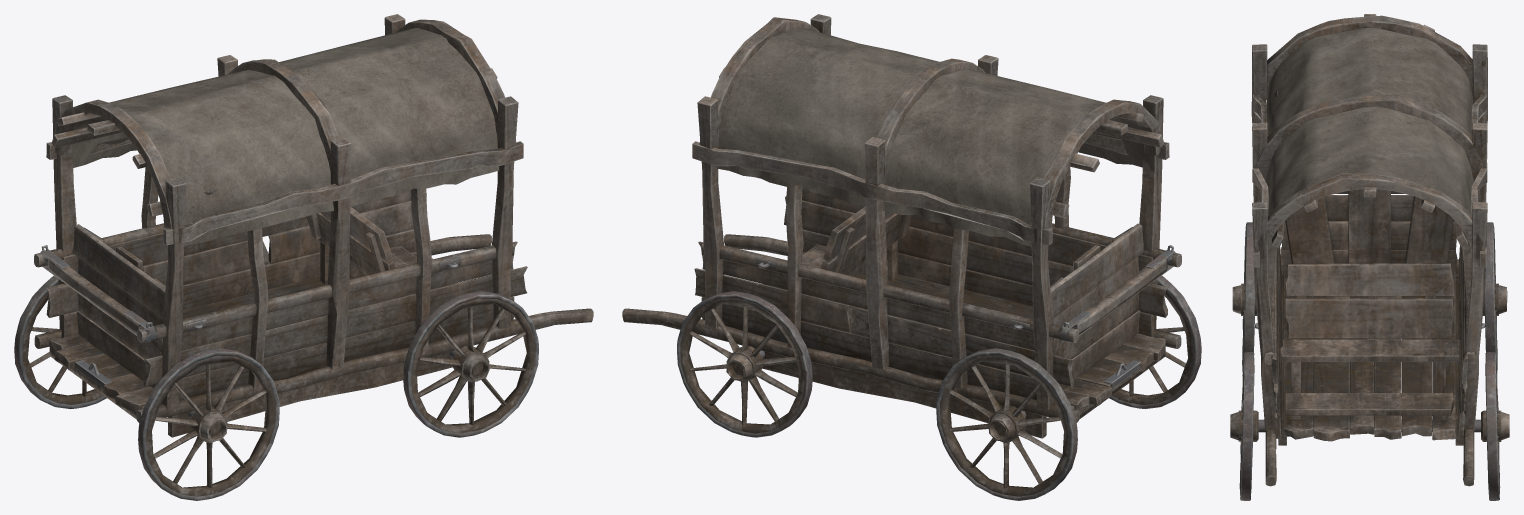
File: SM_Cart_01.fbx
The picture shows the model from 3 angles, left to right: view 1: azimuth 30°, elevation 25°; view 2: azimuth 150°, elevation 25°; view 3: azimuth 270°, elevation 25°; orthographic projection. The views are drawn at different scales.
Visible parts, largest first — view 1: SM_Cart_01_LOD0; view 2: SM_Cart_01_LOD0; view 3: SM_Cart_01_LOD0.
Boxes of the visible parts, box(x1,y1,x2,y2) form: SM_Cart_01_LOD0: box(14, 14, 593, 500); SM_Cart_01_LOD0: box(622, 14, 1201, 500); SM_Cart_01_LOD0: box(1230, 14, 1509, 500).
Bounding box in the file's own units: 365 × 196 × 262.
